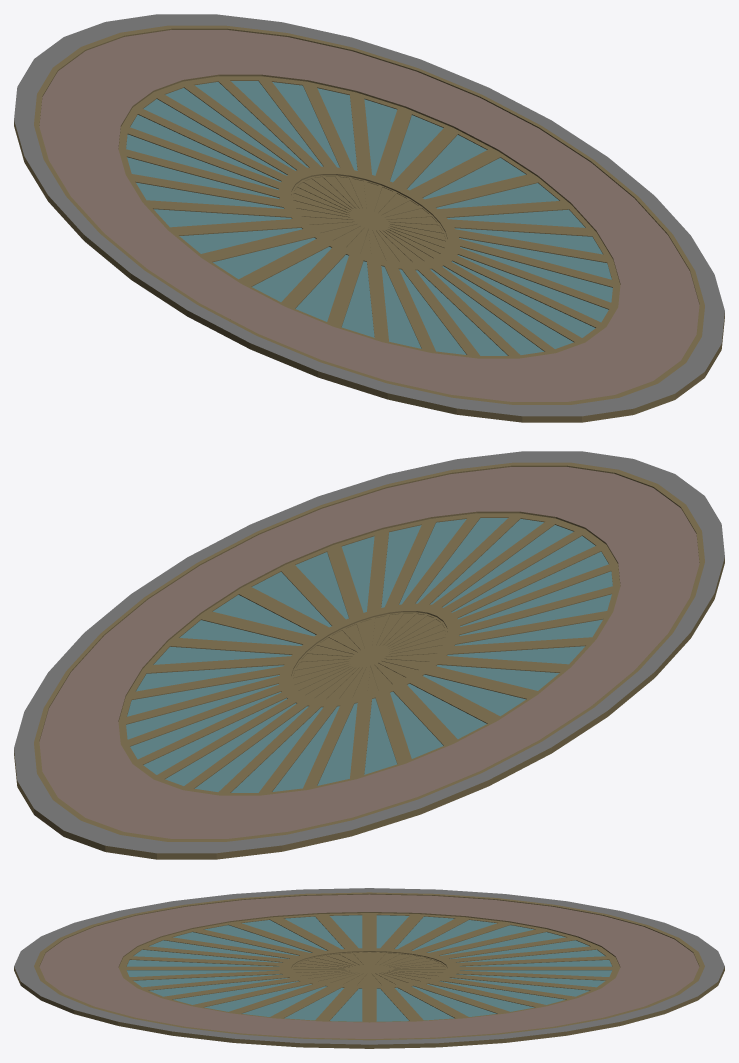
Rendered from hali.fbx.
The picture shows the model from 3 angles, top to bottom: view 1: azimuth 30°, elevation 25°; view 2: azimuth 150°, elevation 25°; view 3: azimuth 270°, elevation 25°; orthographic projection. The views are drawn at different scales.
Parts seen in each view (by area): view 1: Cylinder; view 2: Cylinder; view 3: Cylinder.
Boxes of the visible parts, bbox=[...] form: Cylinder: bbox=[14, 14, 724, 422]; Cylinder: bbox=[14, 451, 724, 859]; Cylinder: bbox=[14, 888, 724, 1048].
Bounding box in the file's own units: 810 × 10.25 × 1554.
